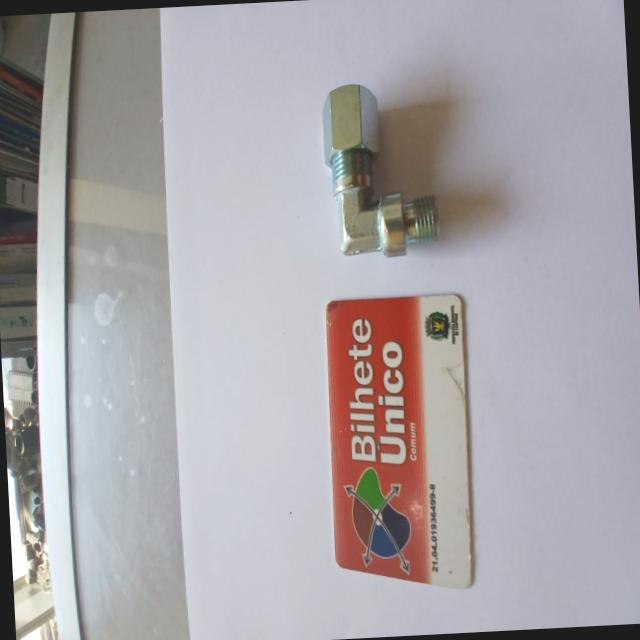cartao: (322, 292, 475, 600)
rosca_externa: (321, 71, 444, 266)
